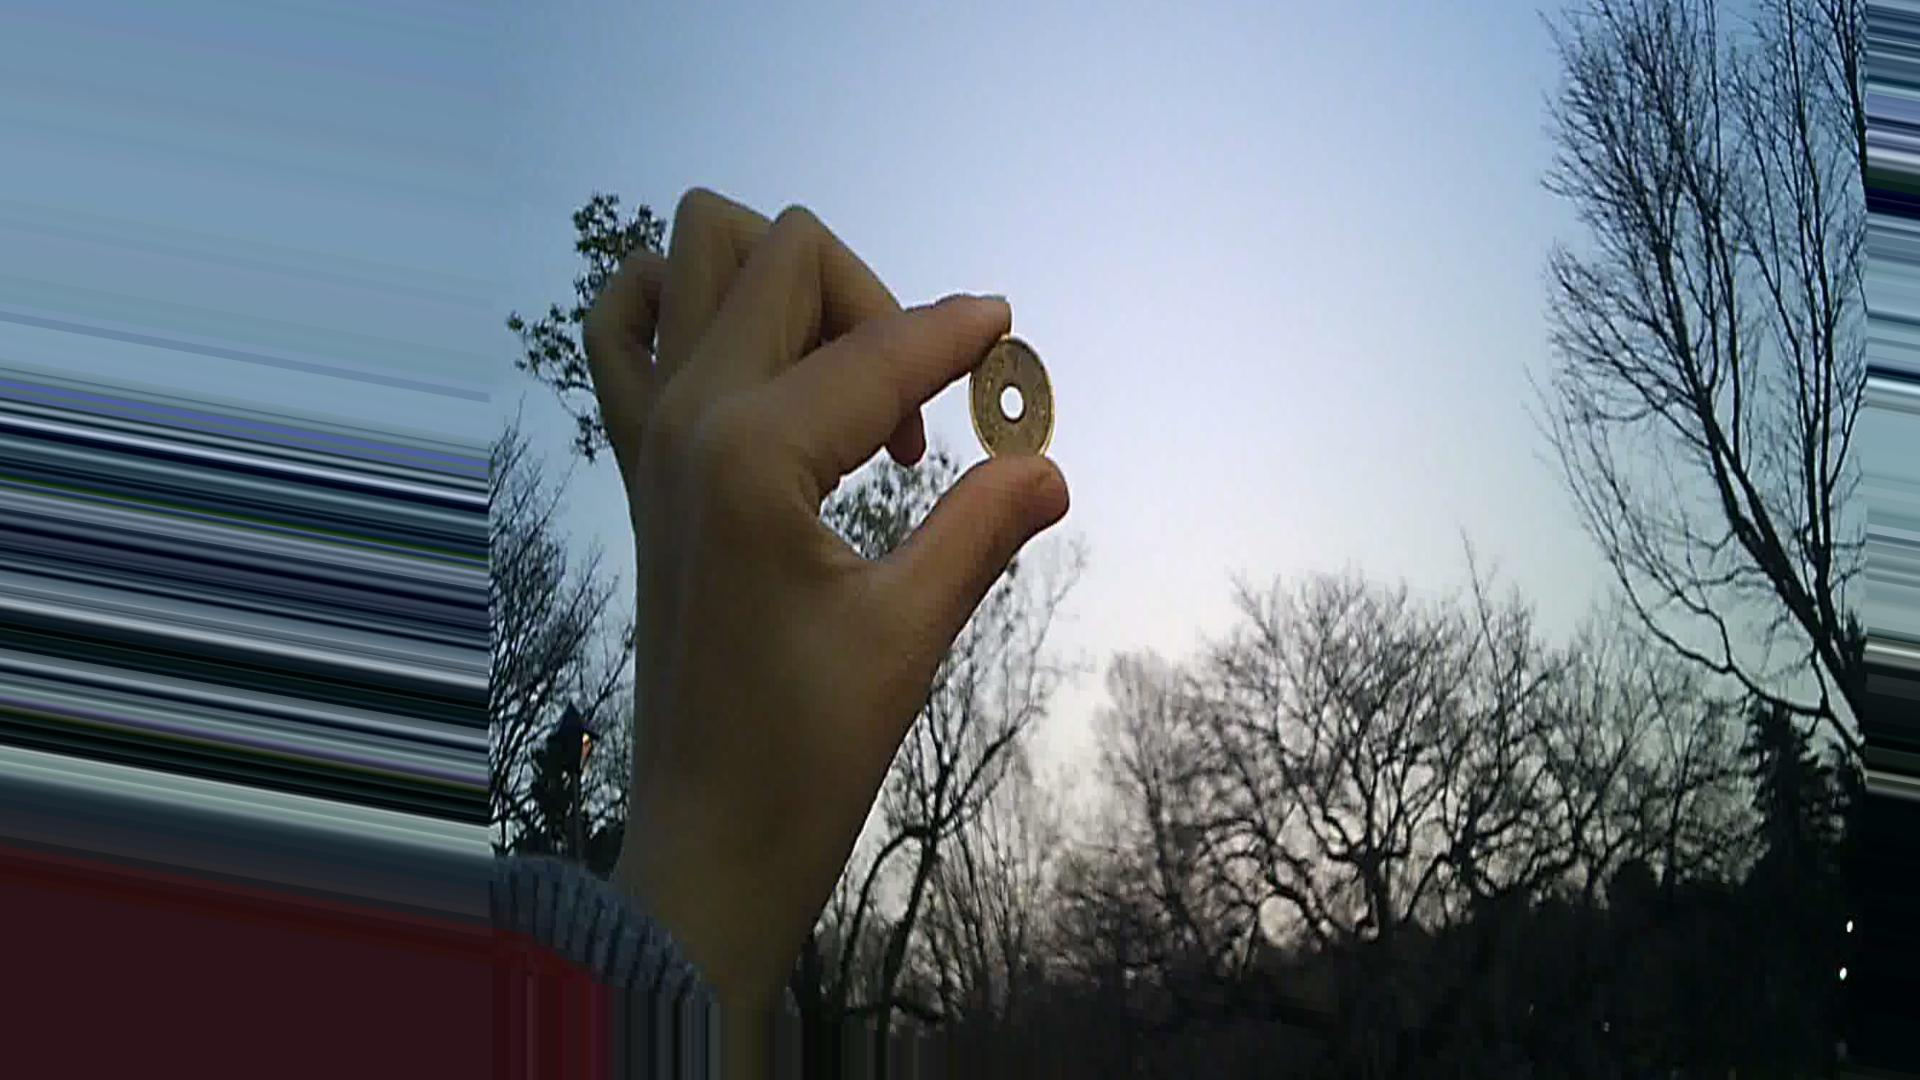5 Yen: (963, 335, 1065, 476)
